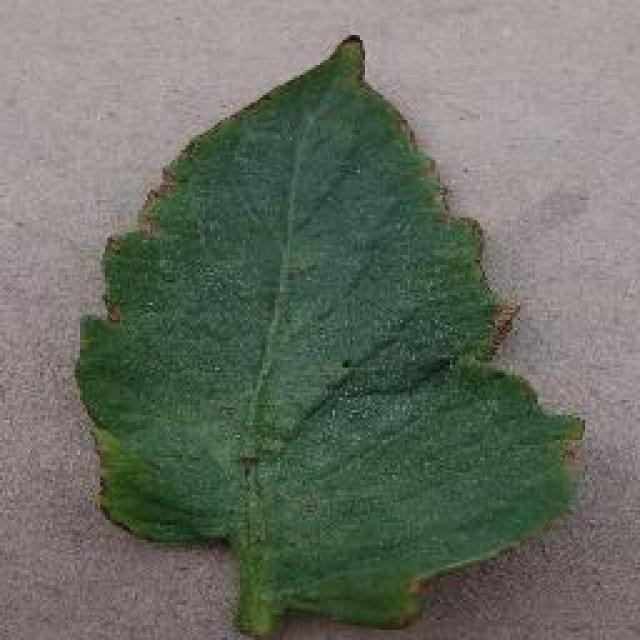Tomato___Bacterial_spot: (71, 30, 587, 637)
